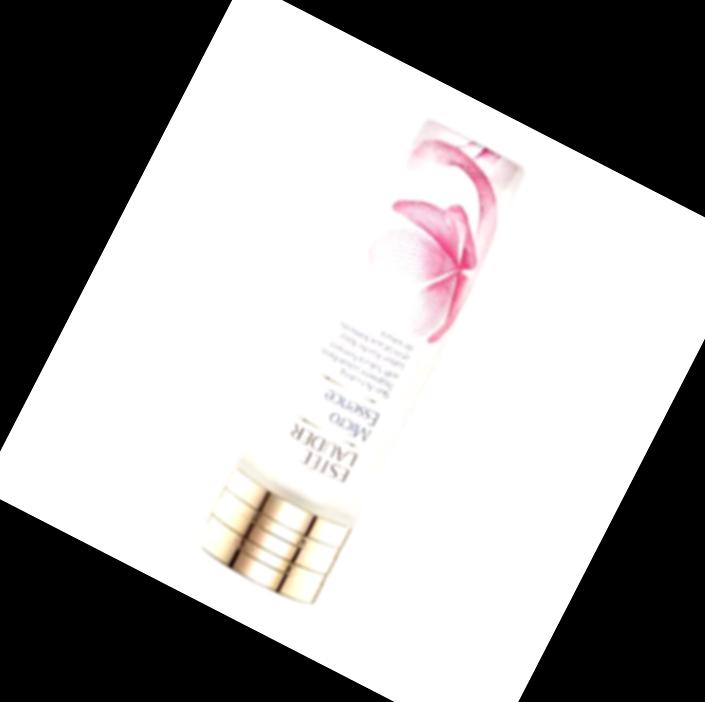cosmetic: (195, 112, 529, 603)
